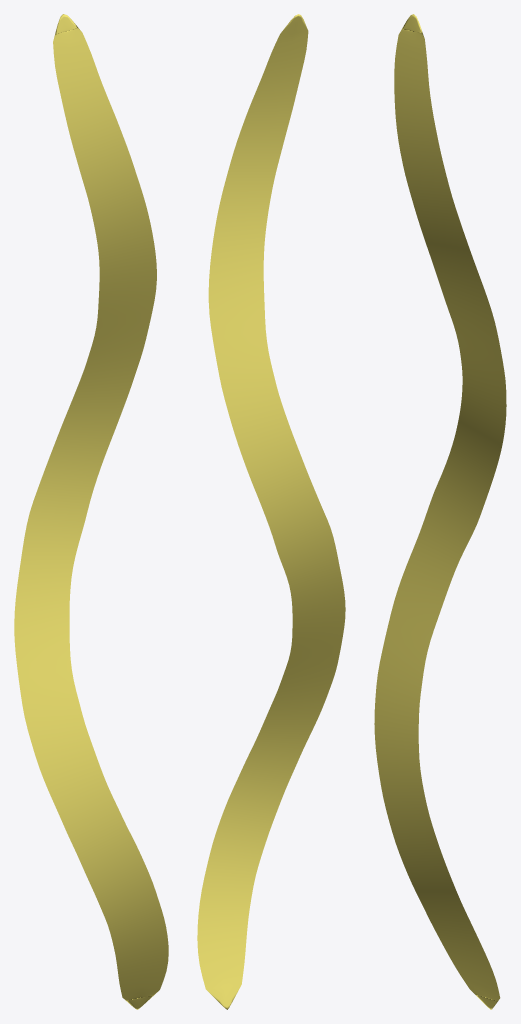
Rendered from Fusili.002.gltf.
The picture shows the model from 3 angles, left to right: view 1: azimuth 30°, elevation 25°; view 2: azimuth 210°, elevation 25°; view 3: azimuth 330°, elevation 25°; orthographic projection. The views are drawn at different scales.
Parts seen in each view (by area): view 1: Fusili.002; view 2: Fusili.002; view 3: Fusili.002.
Part boxes in pixels (<box>): Fusili.002: <box>14,14,168,1009</box>; Fusili.002: <box>197,14,345,1009</box>; Fusili.002: <box>374,14,506,1009</box>.
Bounding box in the file's own units: 0.8189 × 6.01 × 0.5661.
